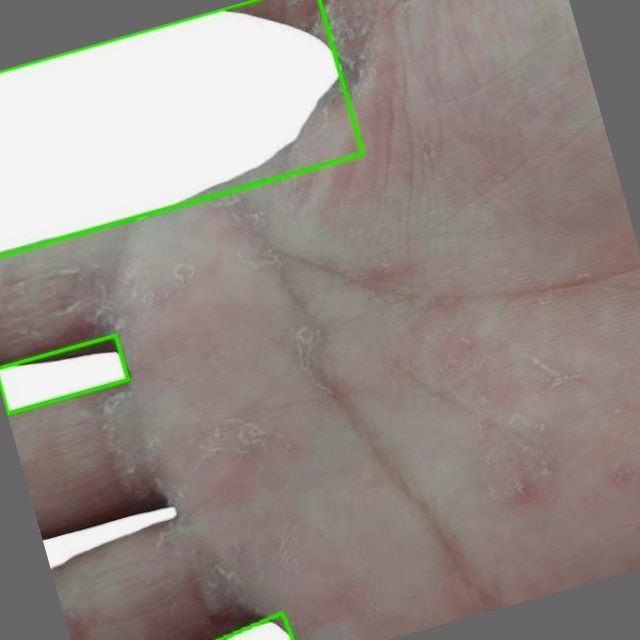Scabies: (0, 0, 362, 255), (0, 335, 128, 413)
